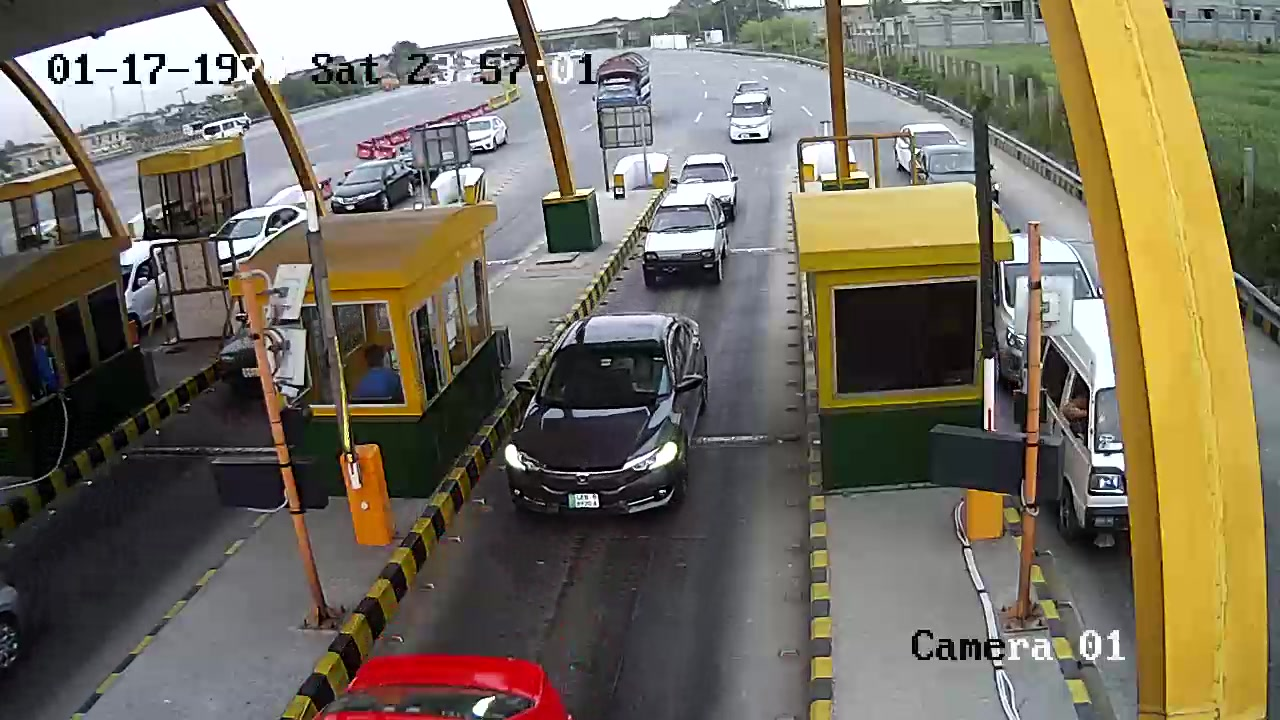F1: (498, 312, 715, 551)
